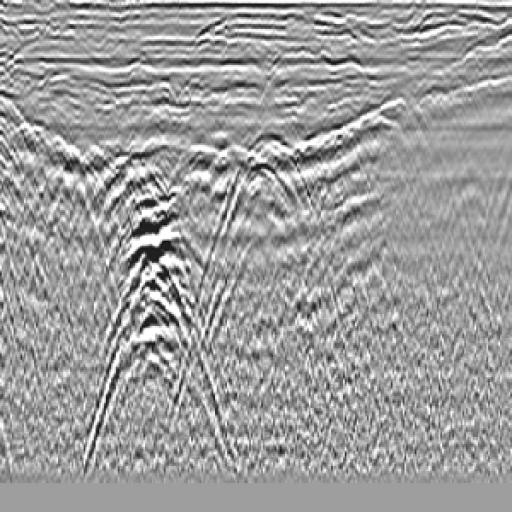metalic: (189, 125, 348, 311)
